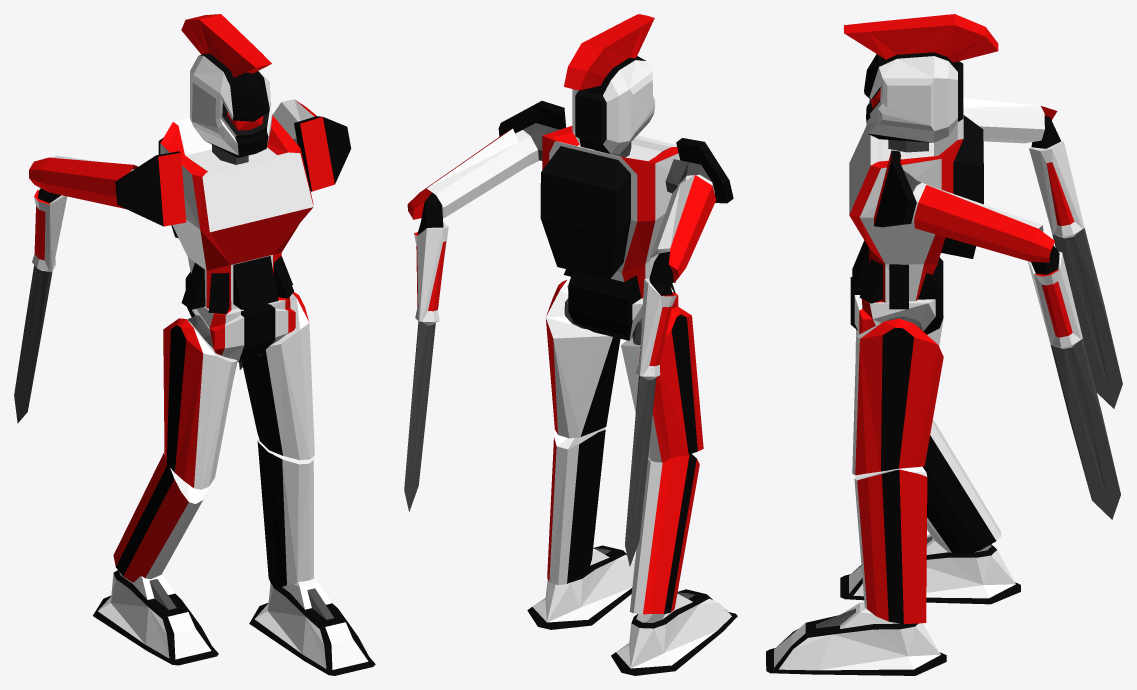
Rendered from robots_000001.obj.
3 renders of one model, left to right at view 1: azimuth 30°, elevation 25°; view 2: azimuth 150°, elevation 25°; view 3: azimuth 270°, elevation 25°, orthographic. The views are drawn at different scales.
Parts seen in each view (by area): view 1: Chest_plate_Cube.004, Head_gladiator_Cube.024, R_Thigh_Cube.005, R_Forearm.001_Cube.028, R_Thigh.002_Cube.027, R_Foot.002_Cube.035, R_Foot_Cube, R_Shin.002_Cube.029, R_Shin_Cube.007, Pelvis_Cube.006, R_Arm.002_Cube.032, R_Arm.003_Cube.034 (+1 smaller); view 2: Chest_plate_Cube.004, R_Forearm.002_Cube.033, R_Forearm.001_Cube.028, Head_gladiator_Cube.024, R_Shin_Cube.007, R_Thigh.002_Cube.027, R_Shin.002_Cube.029, R_Thigh_Cube.005, R_Foot_Cube, R_Foot.002_Cube.035, Pelvis_Cube.006, R_Arm.002_Cube.032 (+1 smaller); view 3: R_Forearm.002_Cube.033, Chest_plate_Cube.004, Head_gladiator_Cube.024, R_Thigh.002_Cube.027, R_Forearm.001_Cube.028, R_Shin.002_Cube.029, R_Foot.002_Cube.035, R_Shin_Cube.007, R_Foot_Cube, Pelvis_Cube.006, R_Arm.003_Cube.034.
Boxes of the visible parts, <box> form: Chest_plate_Cube.004: <box>158,115,313,314</box>; Head_gladiator_Cube.024: <box>181,14,272,157</box>; R_Thigh_Cube.005: <box>163,318,237,489</box>; R_Forearm.001_Cube.028: <box>14,156,137,423</box>; R_Thigh.002_Cube.027: <box>241,292,314,460</box>; R_Foot.002_Cube.035: <box>249,578,375,675</box>; R_Foot_Cube: <box>93,570,218,665</box>; R_Shin.002_Cube.029: <box>257,439,313,587</box>; R_Shin_Cube.007: <box>113,452,211,582</box>; Pelvis_Cube.006: <box>185,271,295,362</box>; R_Arm.002_Cube.032: <box>115,151,186,226</box>; R_Arm.003_Cube.034: <box>294,116,351,191</box>; Chest_plate_Cube.004: <box>540,125,679,298</box>; R_Forearm.002_Cube.033: <box>404,128,528,511</box>; R_Forearm.001_Cube.028: <box>625,175,716,566</box>; Head_gladiator_Cube.024: <box>564,14,655,154</box>; R_Shin_Cube.007: <box>629,454,699,614</box>; R_Thigh.002_Cube.027: <box>545,279,620,438</box>; R_Shin.002_Cube.029: <box>547,427,605,585</box>; R_Thigh_Cube.005: <box>621,307,703,462</box>; R_Foot_Cube: <box>611,589,737,675</box>; R_Foot.002_Cube.035: <box>527,545,635,629</box>; Pelvis_Cube.006: <box>567,271,678,340</box>; R_Arm.002_Cube.032: <box>665,138,733,203</box>; R_Forearm.002_Cube.033: <box>914,185,1120,519</box>; Chest_plate_Cube.004: <box>849,106,983,309</box>; Head_gladiator_Cube.024: <box>843,14,998,142</box>; R_Thigh.002_Cube.027: <box>852,318,943,475</box>; R_Forearm.001_Cube.028: <box>963,98,1122,408</box>; R_Shin.002_Cube.029: <box>854,466,927,624</box>; R_Foot.002_Cube.035: <box>766,602,946,675</box>; R_Shin_Cube.007: <box>923,419,1001,554</box>; R_Foot_Cube: <box>840,534,1020,604</box>; Pelvis_Cube.006: <box>850,257,943,334</box>; R_Arm.003_Cube.034: <box>874,150,929,227</box>.
Bounding box in the file's own units: 1.51 × 3.18 × 1.67.
